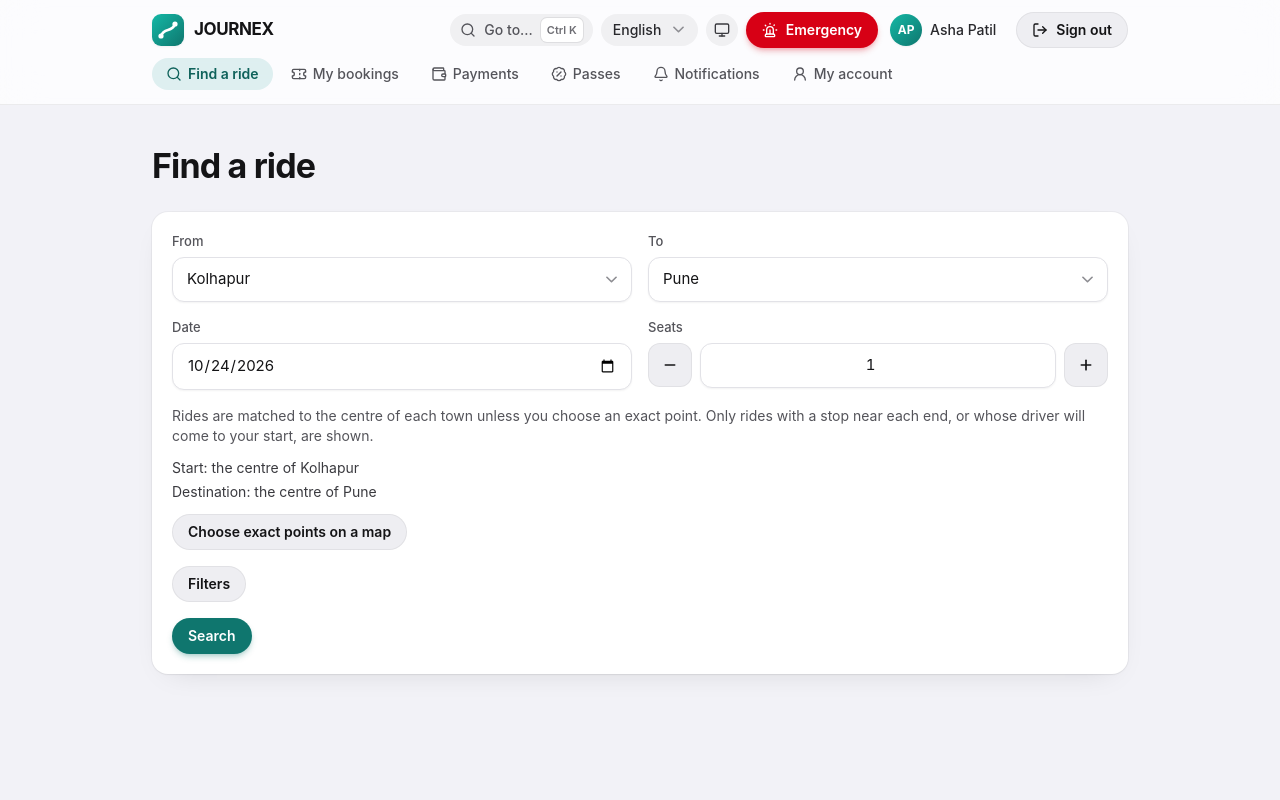
access › signs out and returns to sign in
Click the button "Sign out" at (1072, 30), box 1016,12 -> 1128,48
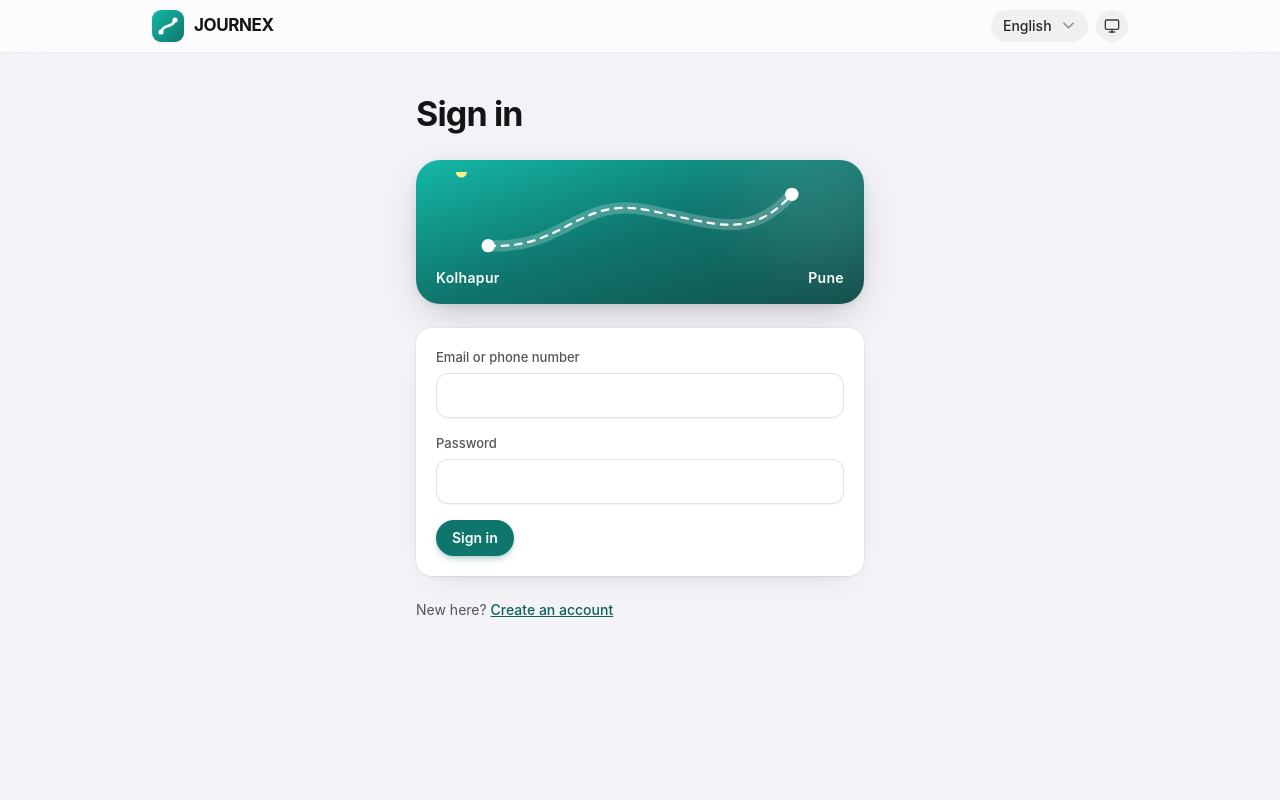
Expected: the heading "Sign in" is shown, 416,93 -> 523,134
